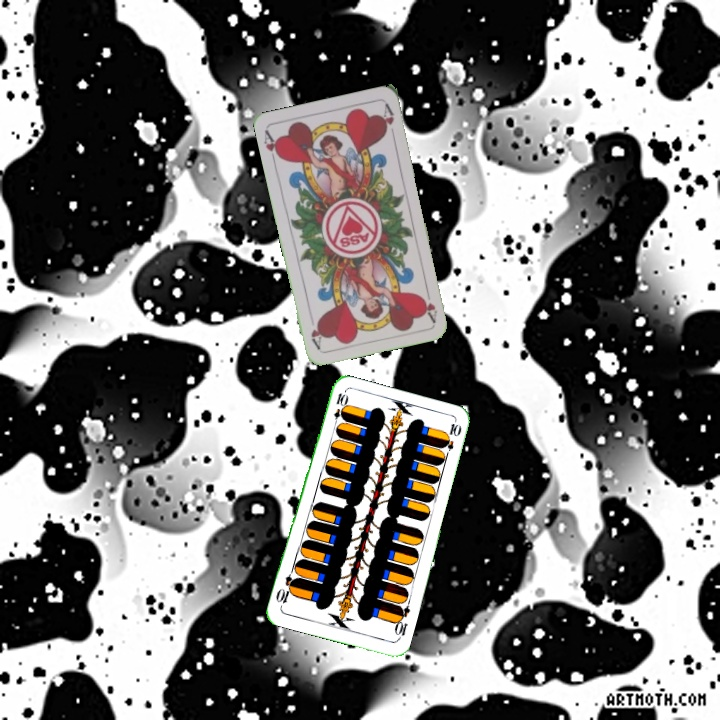E10: (390, 602, 413, 642), (329, 389, 349, 430)
HA: (260, 127, 284, 167), (419, 284, 440, 324)
